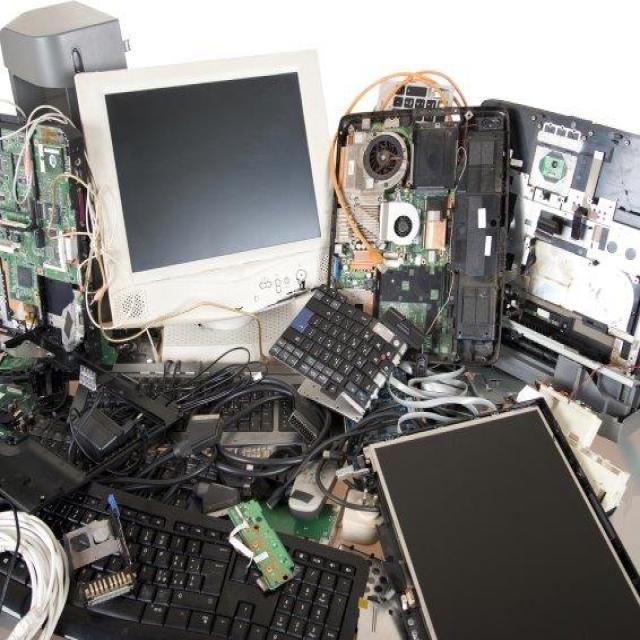Hazard: (3, 6, 640, 630)
